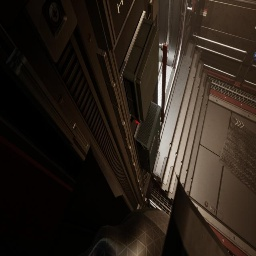FireAlarm ,: (135, 120, 139, 124)
